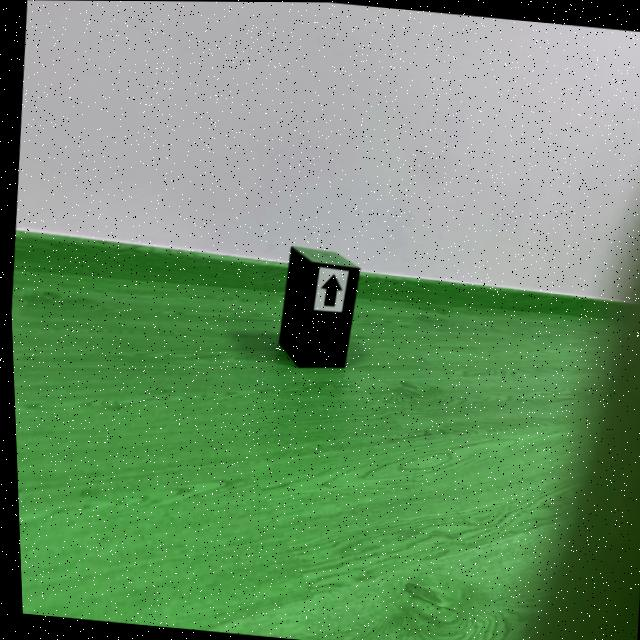UP: (319, 274, 340, 305)
